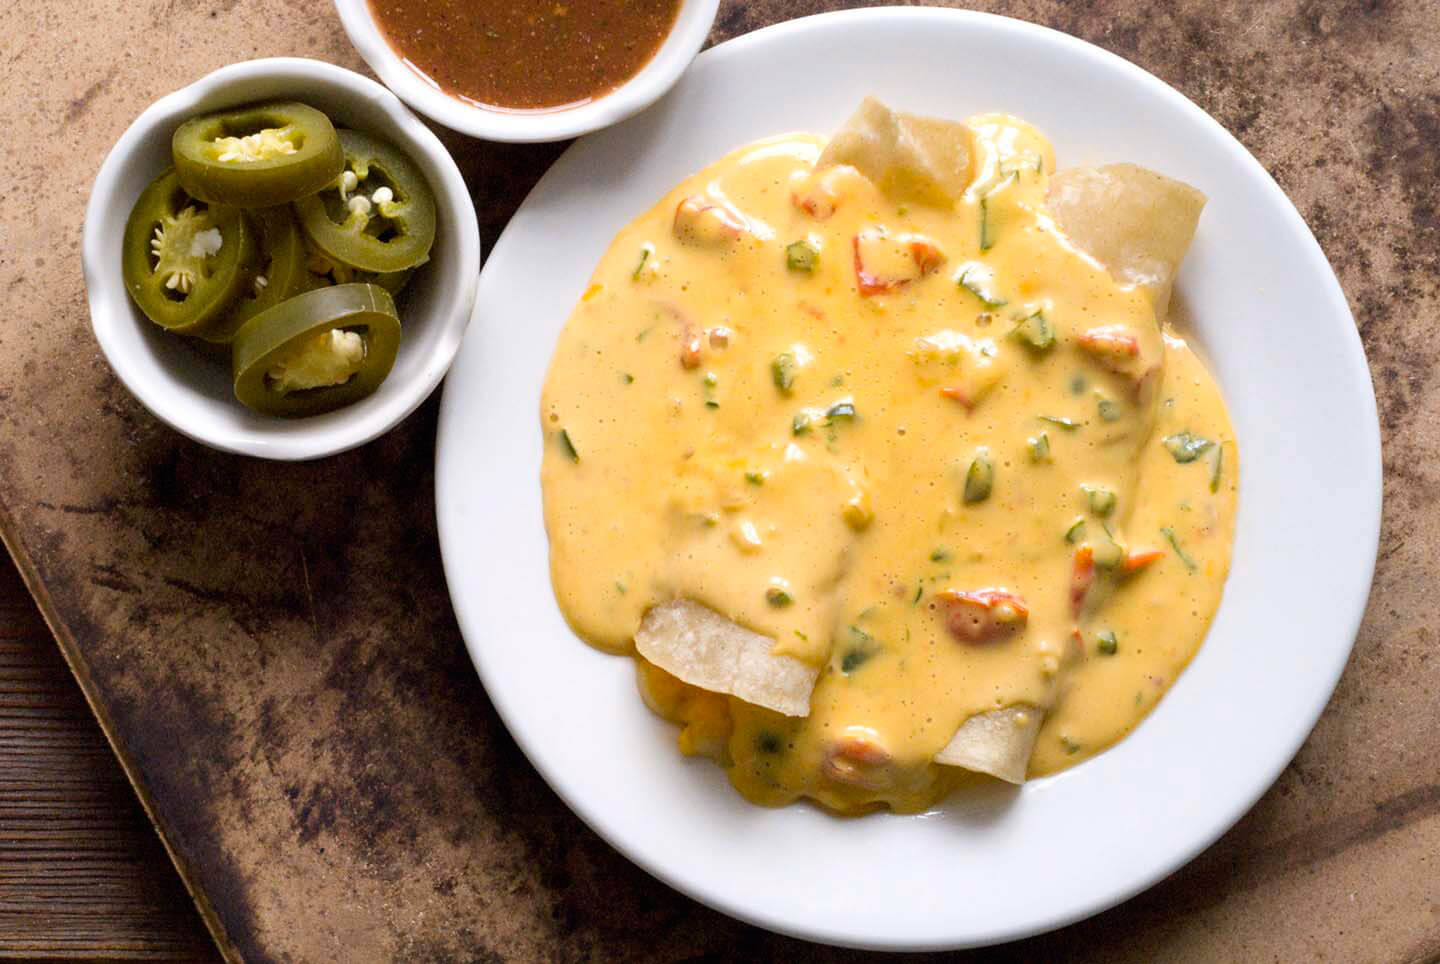cheese: (611, 196, 1087, 572)
